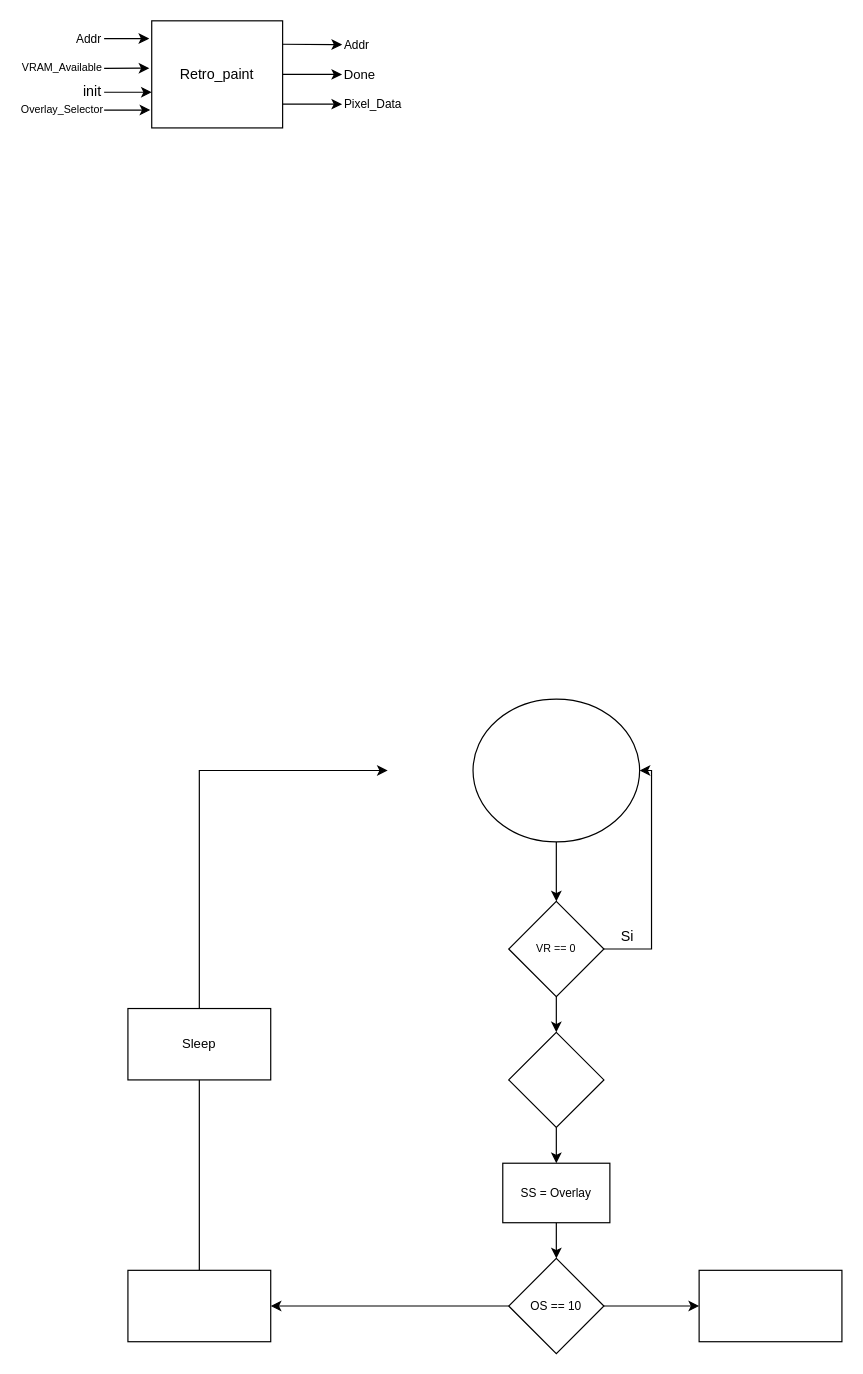
This 863x1374 diagram has some shape labels left out. Each missing label, with the centre of its shape:
"Addr = Addr VR = VRAM_Available OS = Overlay_Selector PX = 0 SS = Image" belongs at (x=556, y=770).
"OS == 0" belongs at (x=556, y=1079).
"PX=11111111" belongs at (x=199, y=1305).
